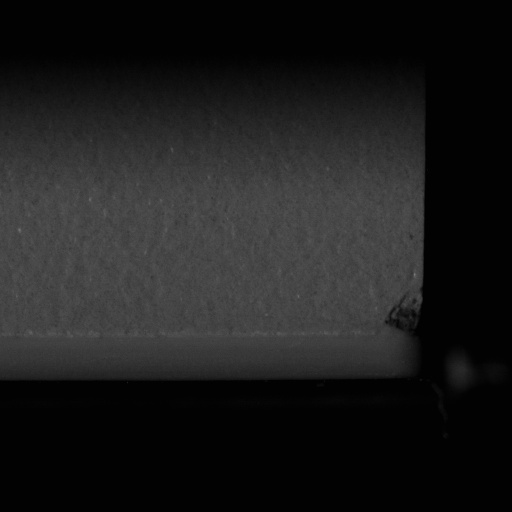bengque: (384, 294, 425, 341)
